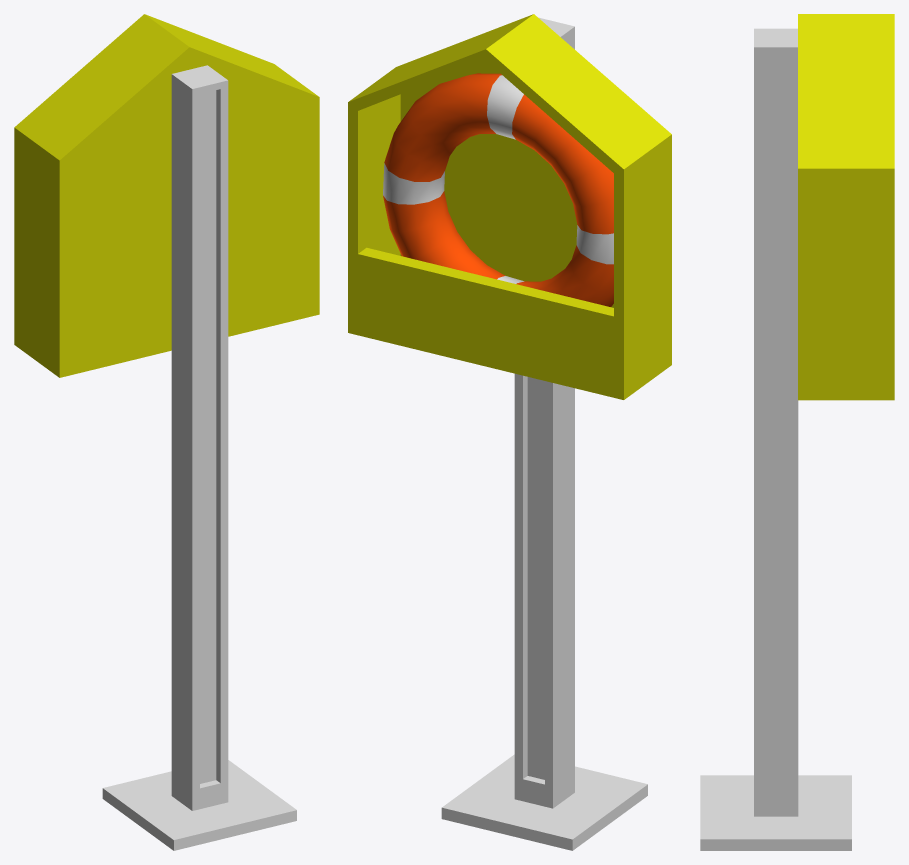
File: Life Ring.FBX
3 views of the same model, side by side, from view 1: azimuth 30°, elevation 25°; view 2: azimuth 150°, elevation 25°; view 3: azimuth 270°, elevation 25° (orthographic). The views are drawn at different scales.
Visible parts, largest first — view 1: RingStand; view 2: RingStand; view 3: RingStand.
Boxes of the visible parts, left/top/right/bottom form: RingStand: left=14, top=14, right=319, bottom=850; RingStand: left=348, top=14, right=671, bottom=850; RingStand: left=700, top=14, right=894, bottom=850.
Size of the model in its own units: 29.69 by 82.42 by 18.03.
